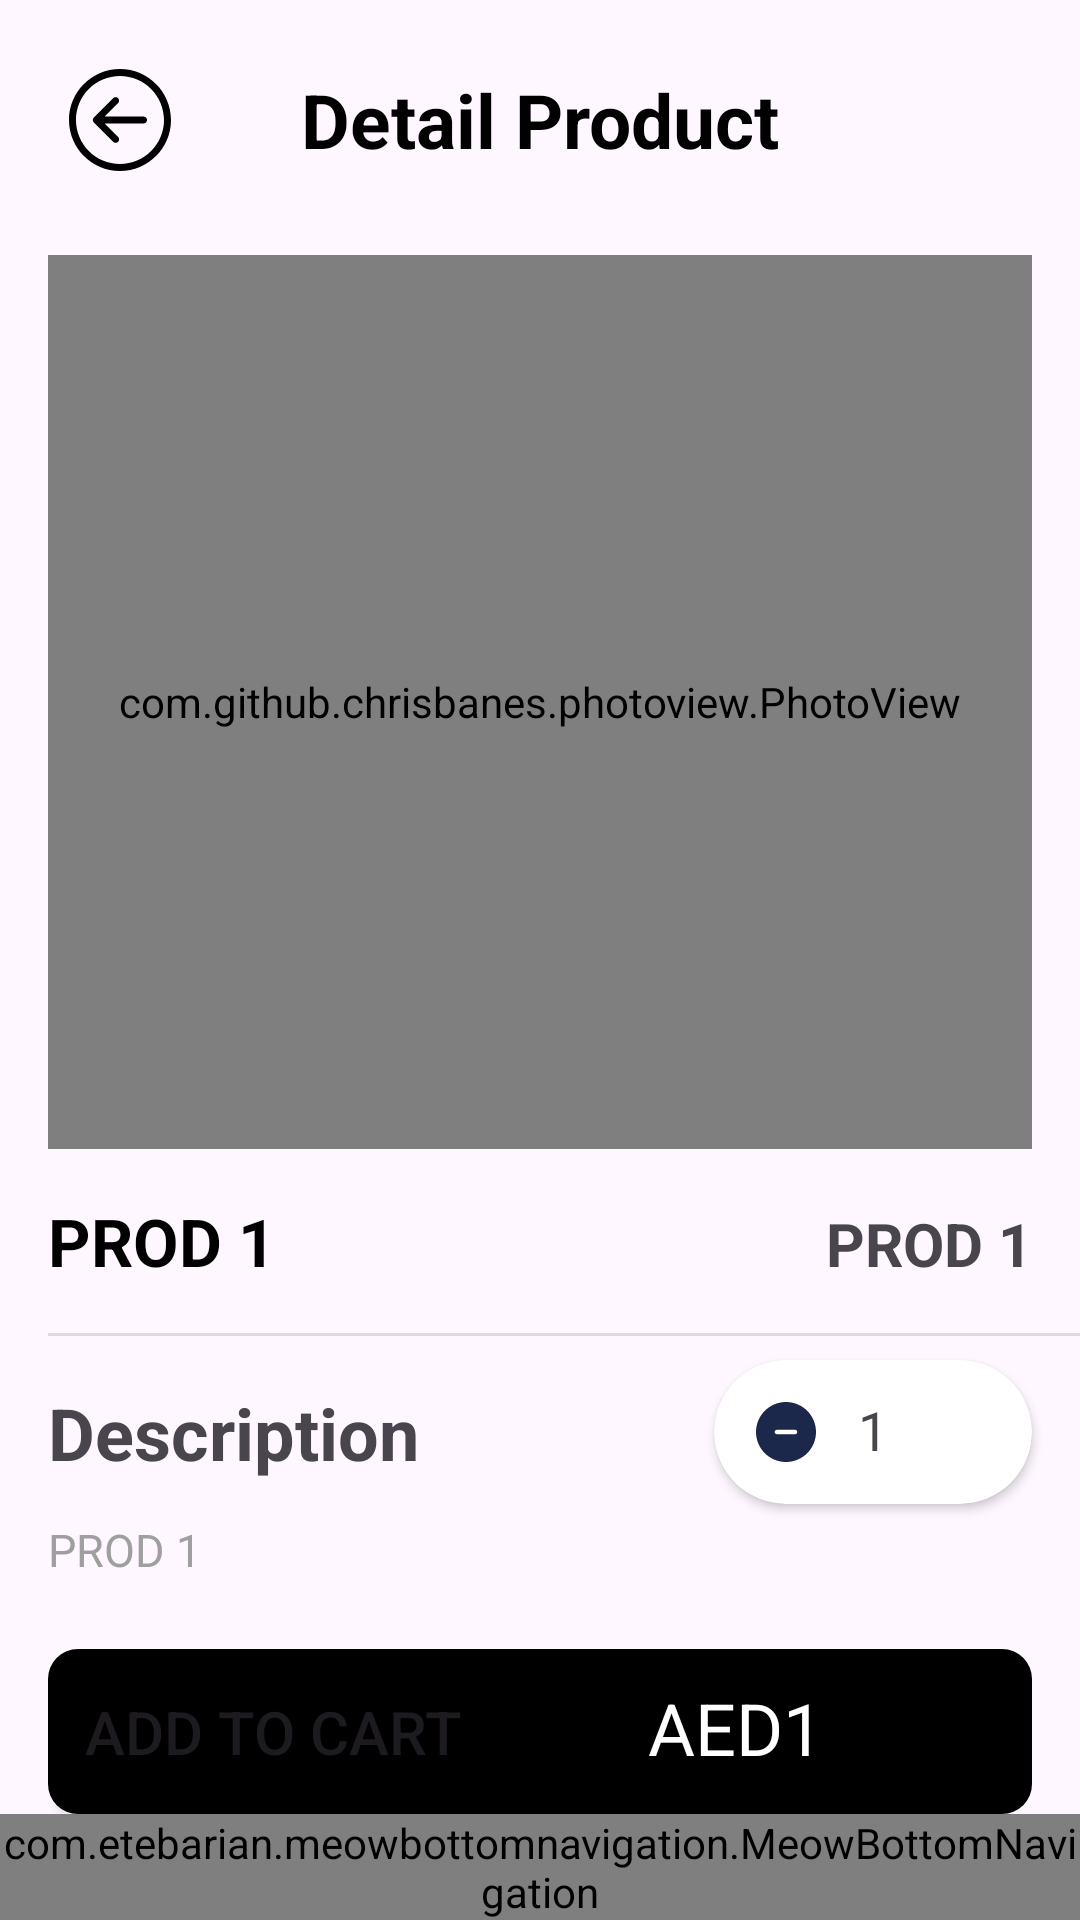

Locate icon controls on the screen. Image size 1080*1920, boxes as region(x1, y1, x2, y2).
back: region(69, 69, 171, 171)
minus: region(756, 1402, 816, 1462)
